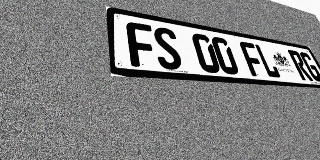0: (190, 32, 222, 74), (210, 36, 240, 75)
F: (126, 21, 159, 69), (238, 41, 267, 77)
G: (298, 51, 320, 82)
L: (254, 44, 282, 78)
R: (287, 49, 313, 81)
S: (152, 26, 184, 71)
